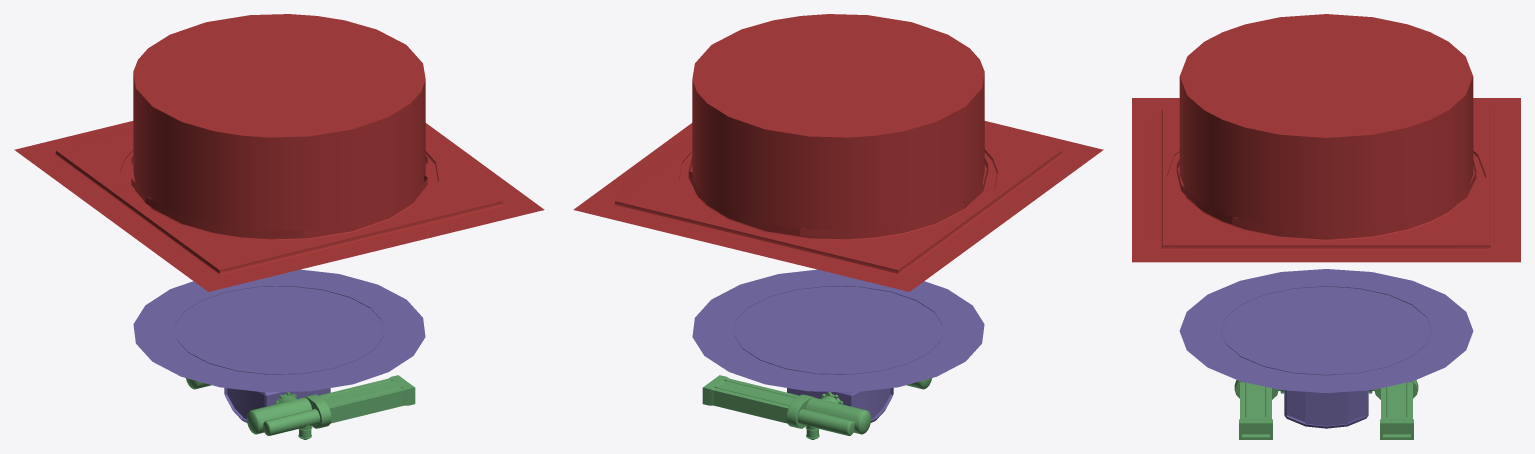
The model's file is Texture_Turret.fbx.
The picture shows the model from 3 angles, left to right: view 1: azimuth 30°, elevation 25°; view 2: azimuth 150°, elevation 25°; view 3: azimuth 270°, elevation 25°; orthographic projection.
Visible parts, largest first — view 1: Cieling1, Base1, Barrel1, Head1, Door_7, Door_6; view 2: Cieling1, Base1, Barrel1, Head1, Door_8, Door_9; view 3: Cieling1, Base1, Barrel1, Head1, Door_10, Door_9, Door_6.
Part boxes in pixels (x1,y1,x2,y2): Cieling1: [14, 14, 544, 291]; Base1: [133, 269, 425, 392]; Barrel1: [186, 375, 415, 439]; Head1: [224, 388, 330, 422]; Door_7: [146, 197, 305, 237]; Door_6: [303, 176, 427, 237]; Cieling1: [573, 14, 1103, 291]; Base1: [692, 269, 984, 392]; Barrel1: [702, 375, 931, 439]; Head1: [787, 388, 893, 422]; Door_8: [800, 202, 964, 237]; Door_9: [688, 171, 802, 235]; Cieling1: [1132, 14, 1520, 262]; Base1: [1179, 269, 1473, 392]; Barrel1: [1234, 380, 1418, 439]; Head1: [1284, 390, 1368, 428]; Door_10: [1232, 217, 1408, 238]; Door_9: [1408, 160, 1476, 227]; Door_6: [1176, 159, 1237, 223].
Bounding box in the file's own units: 300 × 286 × 300.
